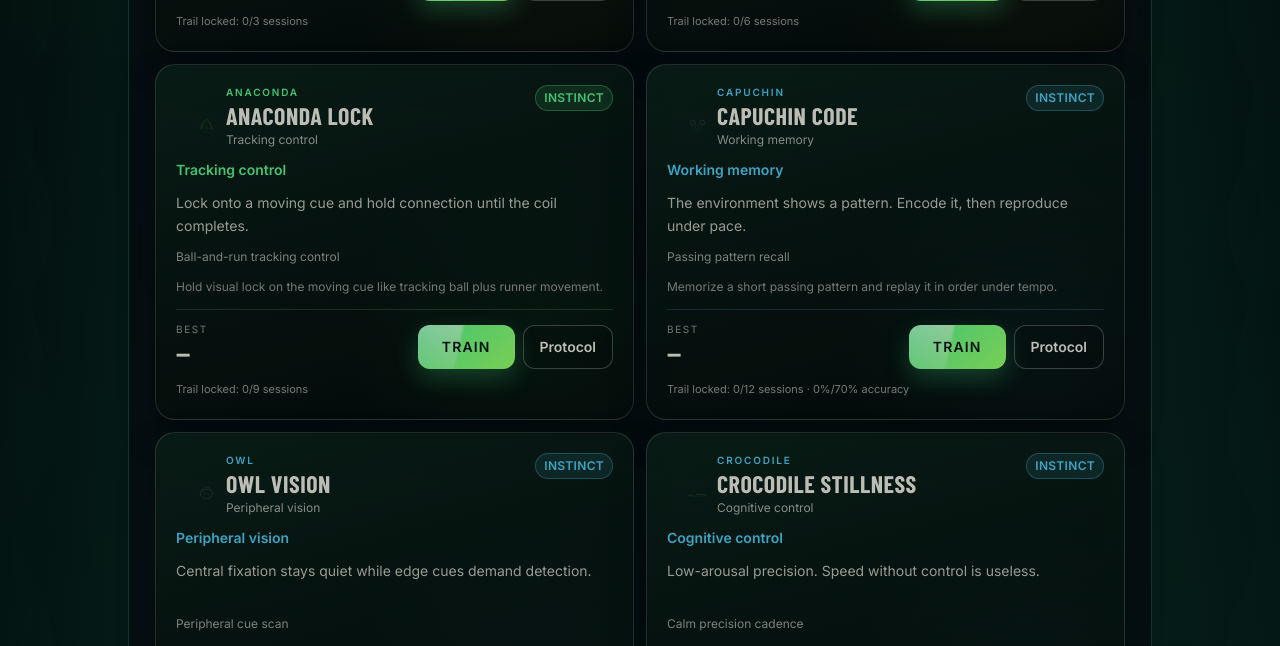
mode drills integration › Sequence Memory handles spawn, ordered input, fail path, and pause safety
(page scrolled)
Click the button "TRAIN" below "Passing pattern recall". click: {"x": 957, "y": 347}
box: [909, 325, 1006, 369]
Wait 4280 ms
(page scrolled)
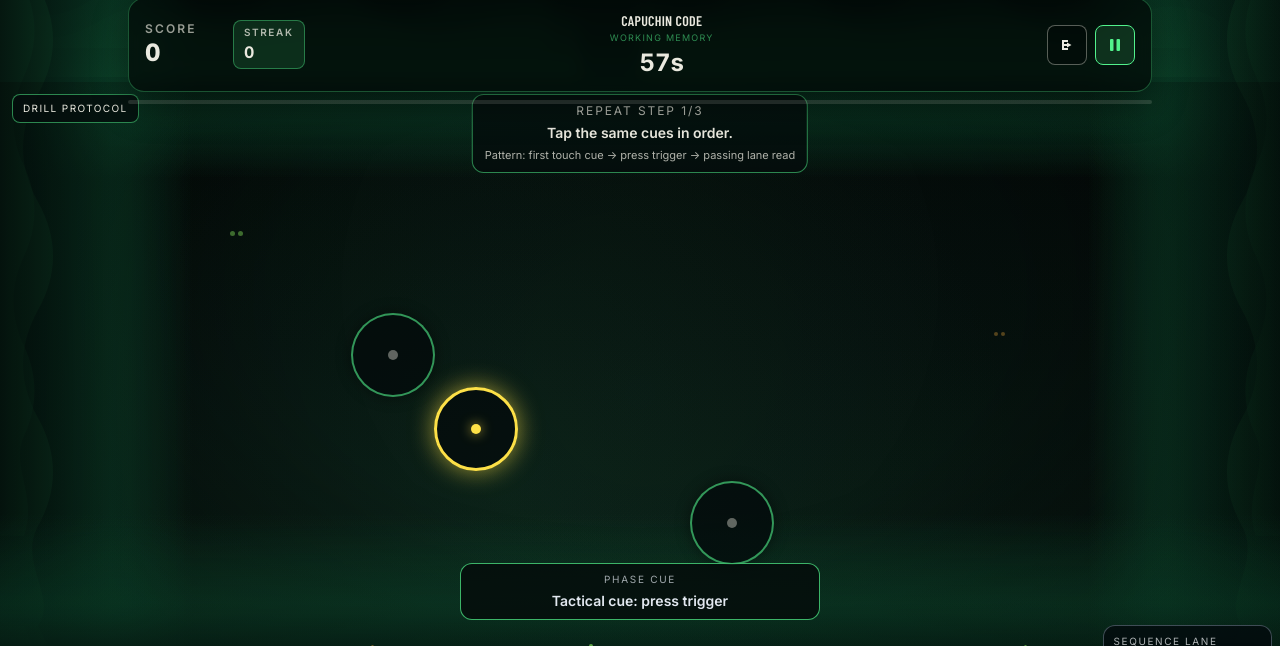
Expected: the button named "pause game" is shown, [1095, 25, 1135, 65]
Click the 2nd button named "Sequence target". click: {"x": 476, "y": 430}
box: [434, 388, 518, 472]
Wait 120 ms
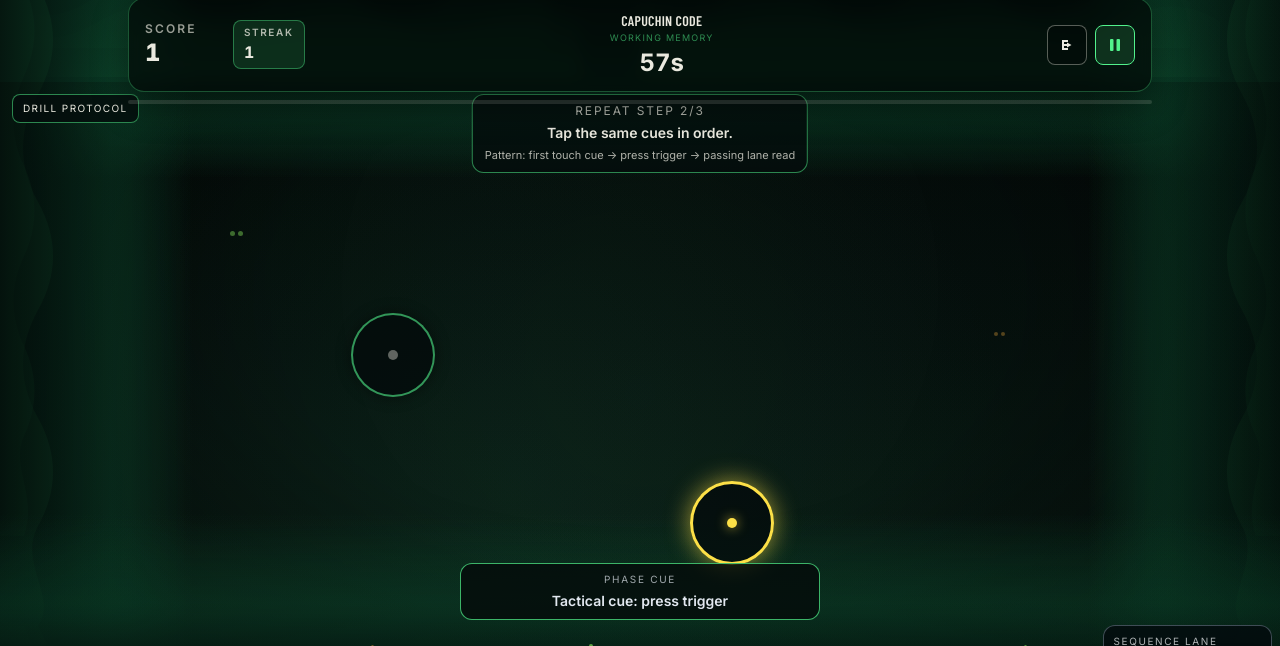
Expected: the element named "Current streak 1" is shown, [233, 20, 304, 69]
Click the button named "pause game". click: {"x": 1115, "y": 45}
box: [1095, 25, 1135, 65]
Wait 4000 ms
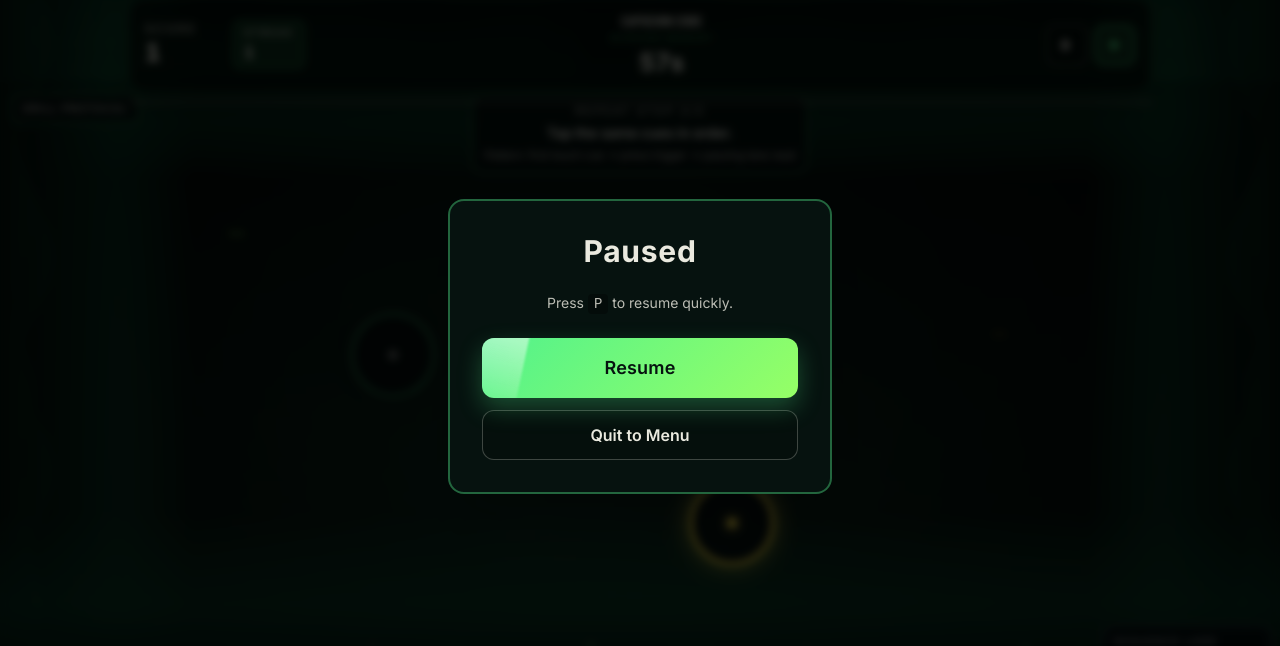
Expected: the text "57s" is shown, [640, 46, 684, 78]
Click the button "Resume". click: {"x": 640, "y": 368}
box: [482, 338, 798, 398]
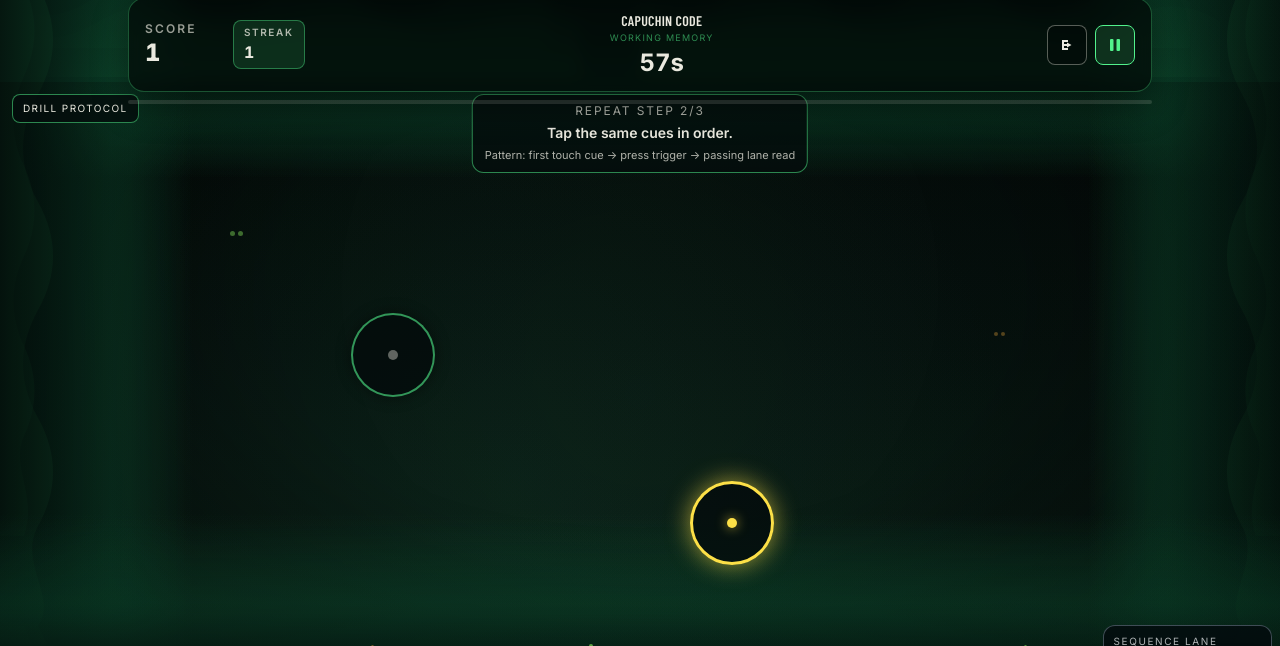
Click the 1st button named "Sequence target". click: {"x": 393, "y": 355}
box: [351, 313, 435, 397]
Wait 120 ms
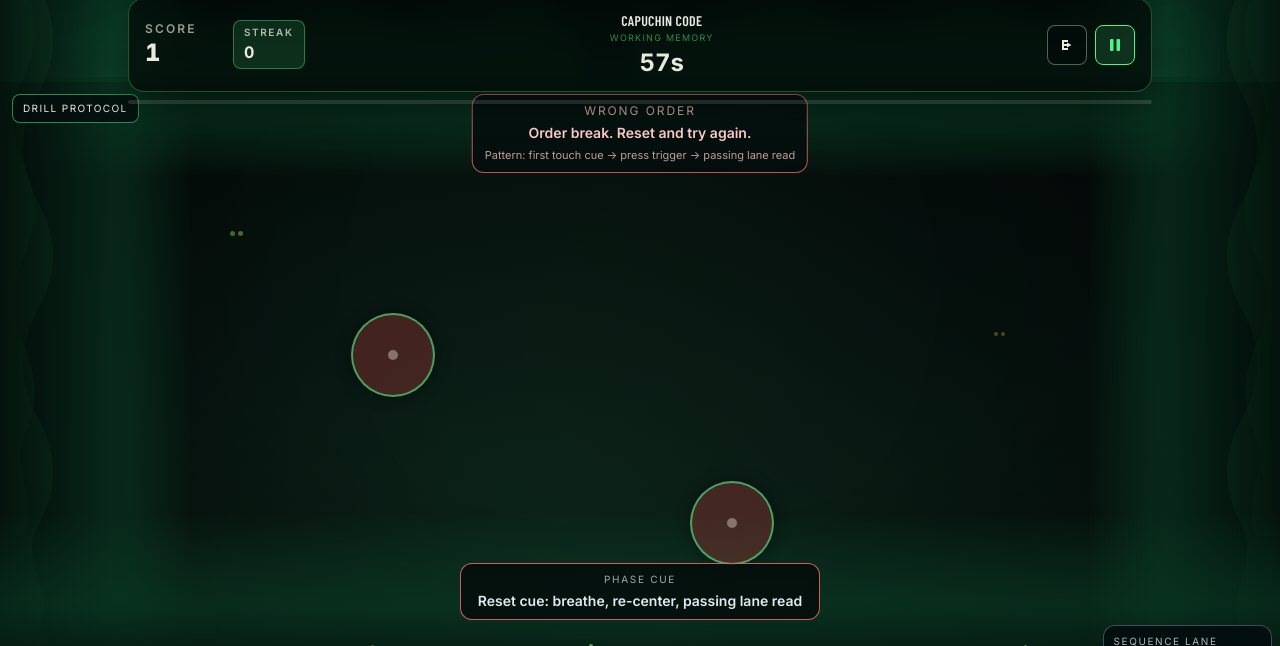
Expected: the text "Wrong order" is shown, [584, 103, 696, 118]
Expected: the element named "Current streak 0" is shown, [233, 20, 304, 69]
